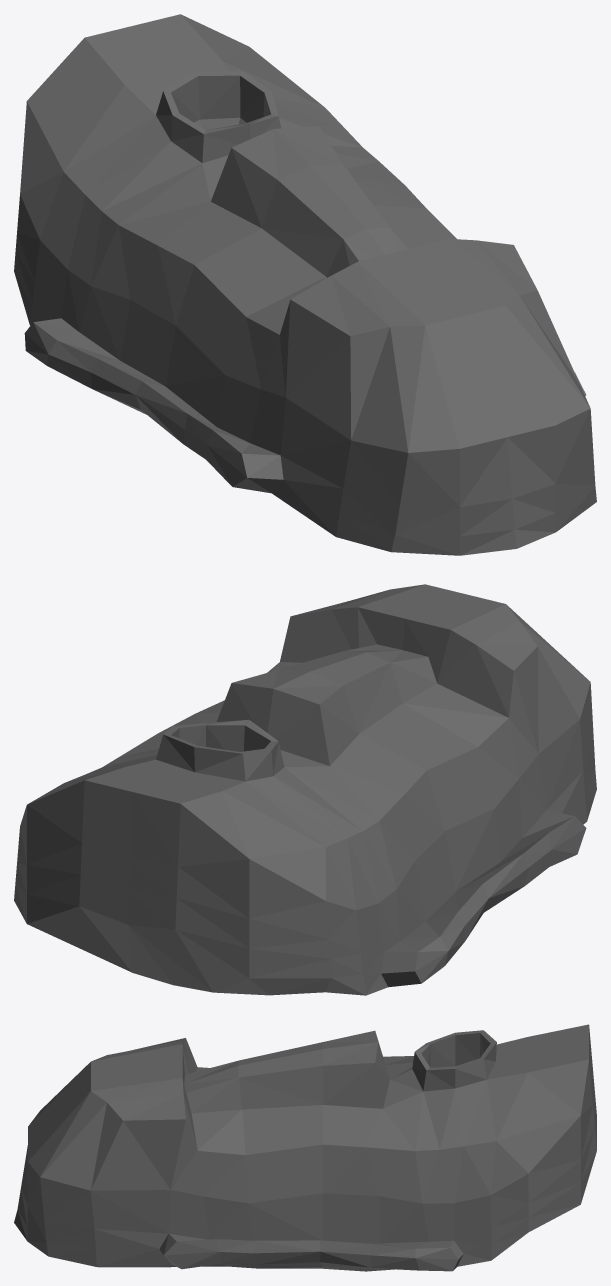
The model's file is rockCar.dae.
The picture shows the model from 3 angles, top to bottom: view 1: azimuth 30°, elevation 25°; view 2: azimuth 150°, elevation 25°; view 3: azimuth 270°, elevation 25°; orthographic projection. The views are drawn at different scales.
Visible parts, largest first — view 1: Cube; view 2: Cube; view 3: Cube.
Part boxes in pixels (x1,y1,x2,y2): Cube: (14, 14, 596, 555); Cube: (14, 584, 596, 995); Cube: (14, 1024, 596, 1271).
Size of the model in its own units: 1.72 by 1.03 by 2.92.
Materials: 1 (1 with a texture image).
